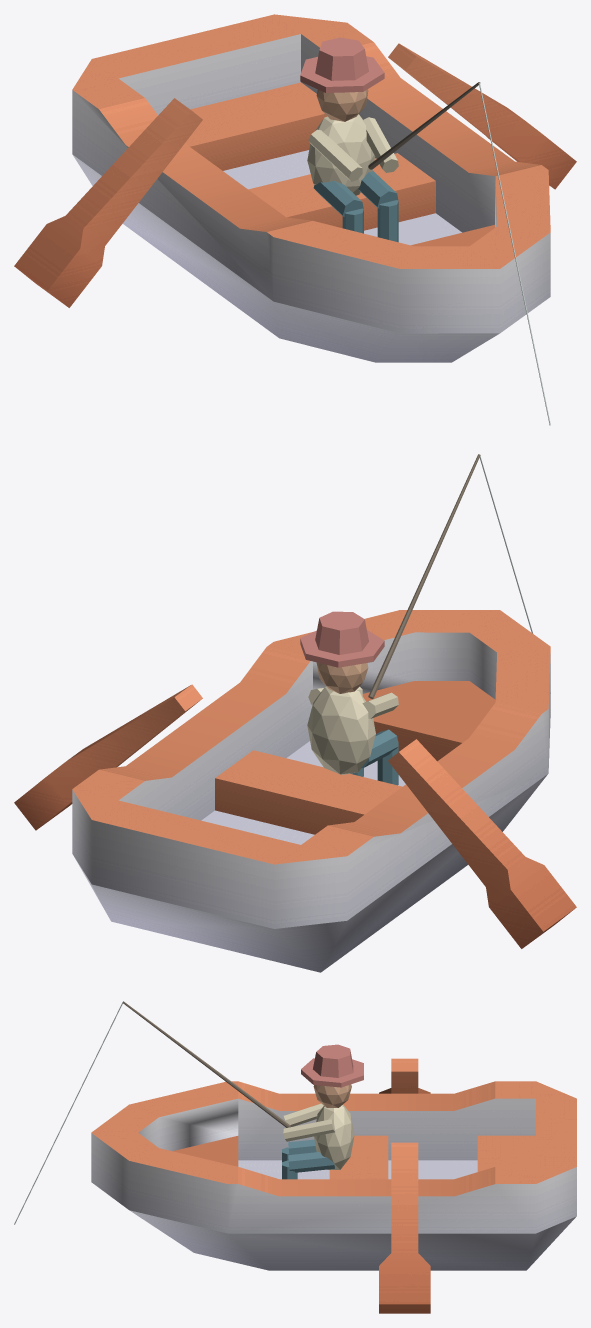
Rendered from fishing_boat.glb.
3 views of the same model, one above another, from view 1: azimuth 30°, elevation 25°; view 2: azimuth 150°, elevation 25°; view 3: azimuth 270°, elevation 25° (orthographic). The views are drawn at different scales.
Visible parts, largest first — view 1: GEO-fishing_boat; view 2: GEO-fishing_boat; view 3: GEO-fishing_boat.
Part boxes in pixels (x1,y1,x2,y2): GEO-fishing_boat: (14,14,576,425); GEO-fishing_boat: (14,454,576,972); GEO-fishing_boat: (14,1001,576,1313).
Bounding box in the file's own units: 3.66 × 1.99 × 4.4.
7 materials, 1 textured.
